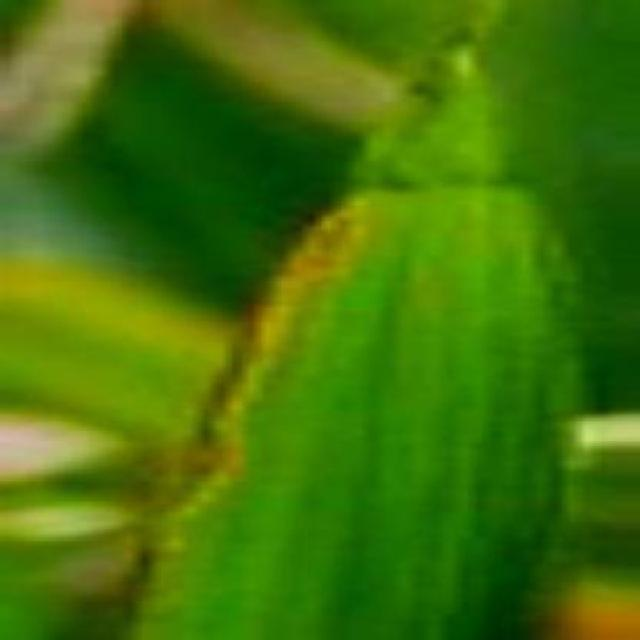Brown_Spot: (74, 0, 540, 637)
